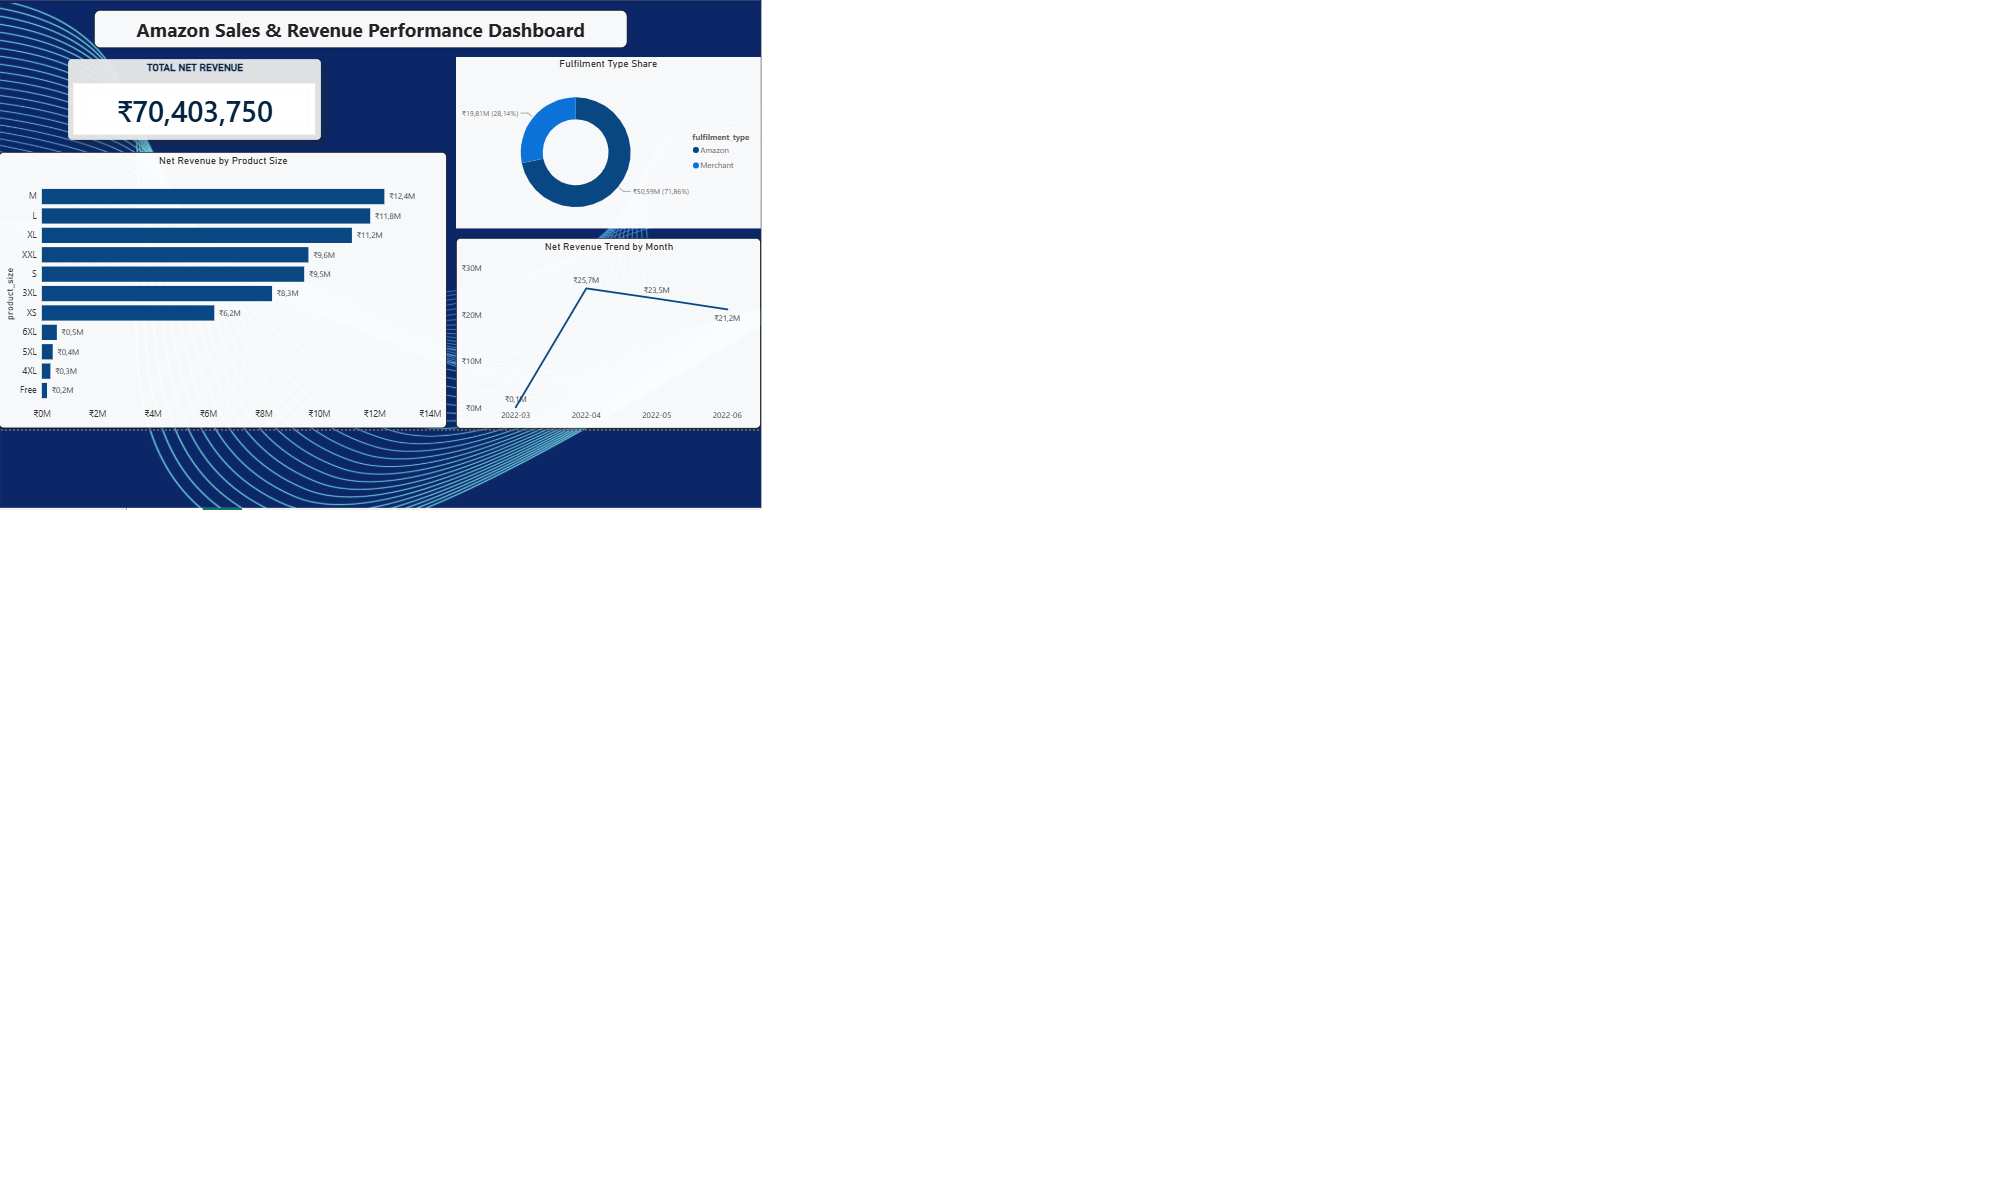

What the dashboard file says about the page in this screenshot:
{"tool":"powerbi","page":{"name":"Page 1","canvas":[1280,720],"ordinal":0},"visuals":[{"type":"cardVisual","title":"TOTAL NET REVENUE","fields":{"Data":["public v_amazon_net_financials.Exact Net Revenue"]},"box":[115.9,99.1,425,136.1],"z":0},{"type":"clusteredBarChart","title":"Net Revenue by Product Size","fields":{"Category":["public v_amazon_net_financials.product_size"],"Y":["Sum(public v_amazon_net_financials.net_amount)"]},"box":[0,256,752,464],"z":1000},{"type":"donutChart","title":"Fulfilment Type Share","fields":{"Category":["public v_amazon_net_financials.fulfilment_type"],"Y":["Sum(public v_amazon_net_financials.net_amount)"]},"box":[768,96,512,288],"z":1002},{"type":"lineChart","title":"Net Revenue Trend by Month","fields":{"Category":["public v_amazon_net_financials.order_month"],"Y":["Sum(public v_amazon_net_financials.net_amount)"]},"box":[768,400,512,320],"z":1003},{"type":"textbox","box":[160,16,896,64],"z":1004}]}

Visuals, with their boxes on the page's 1280x720 design canvas (x1, y1, x2, y2). These are canvas units, not pixel positions in the 1996x1190 screenshot, which may show the page scaled, cropped or inside an application window:
"TOTAL NET REVENUE" cardVisual: detection(116, 99, 541, 235)
"Net Revenue by Product Size" clusteredBarChart: detection(0, 256, 752, 720)
"Fulfilment Type Share" donutChart: detection(768, 96, 1280, 384)
"Net Revenue Trend by Month" lineChart: detection(768, 400, 1280, 720)
textbox: detection(160, 16, 1056, 80)
